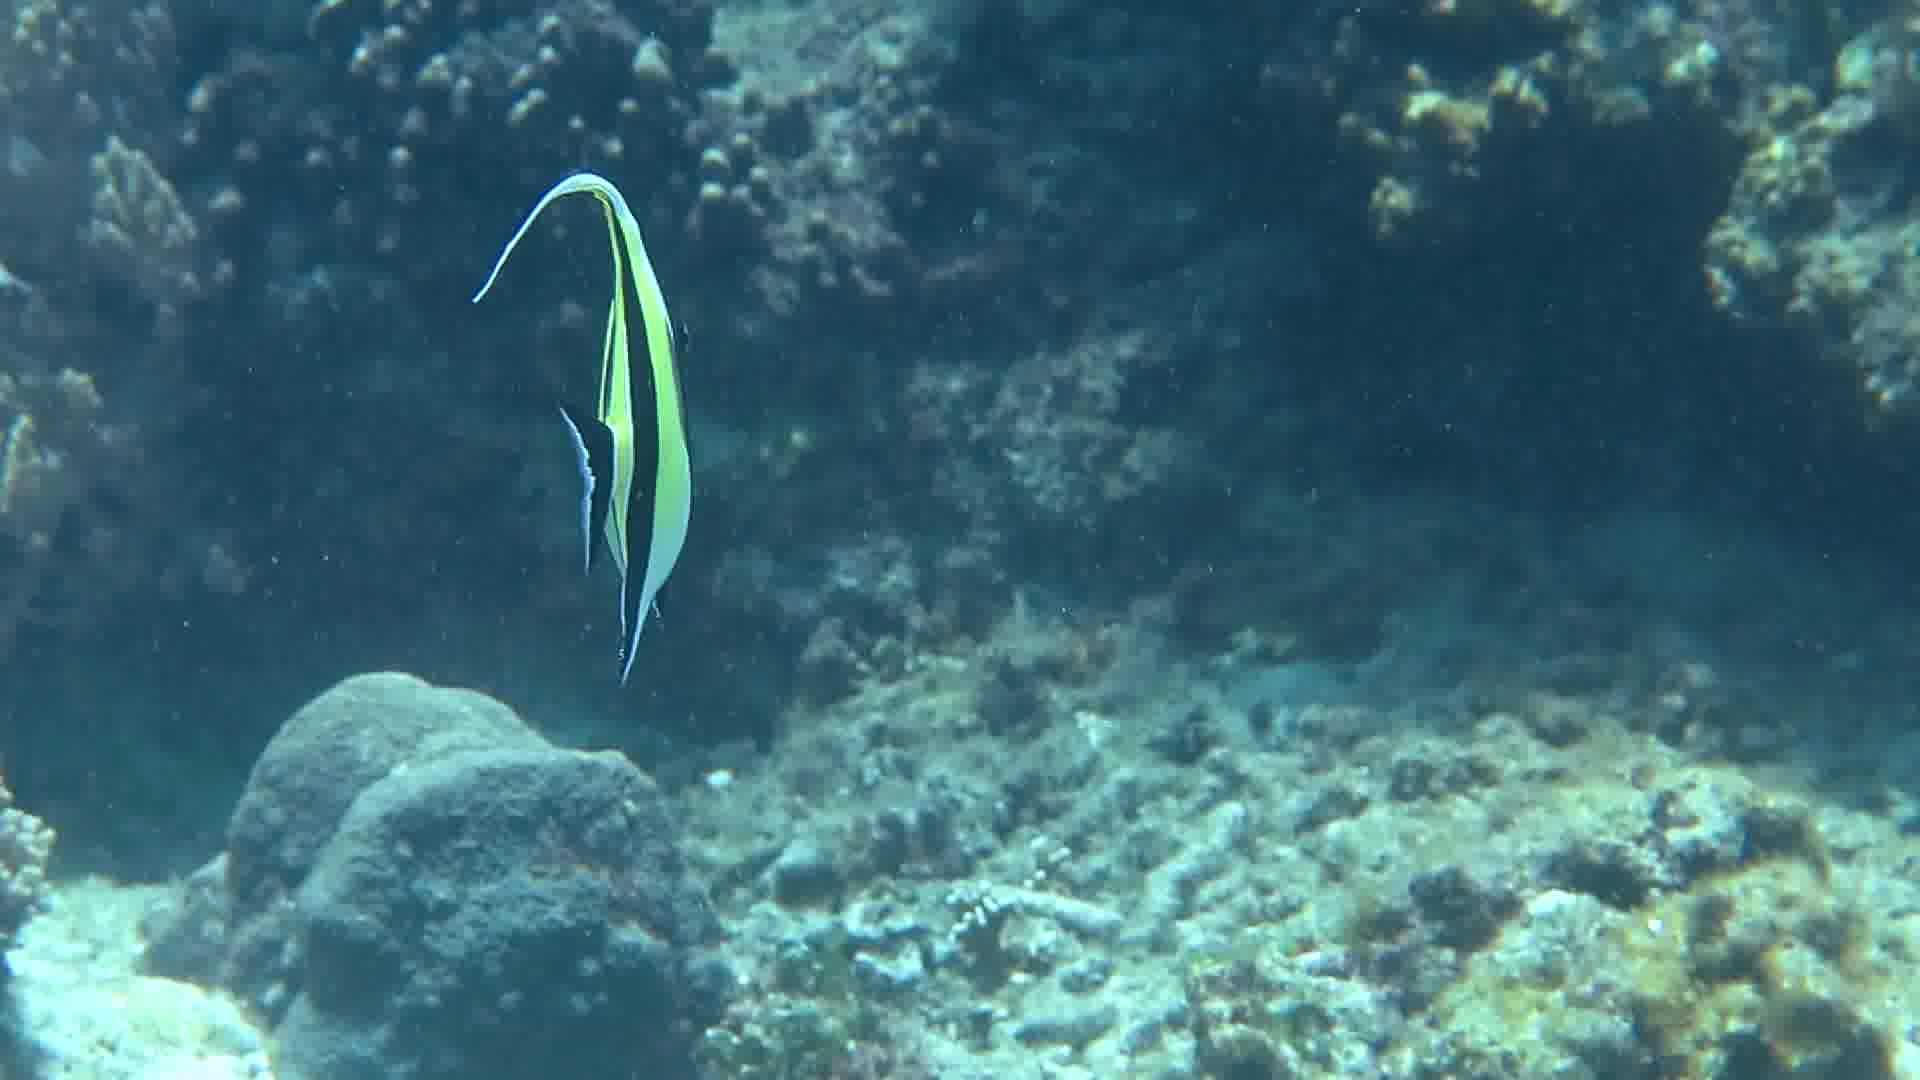Zanclus cornutus: (502, 142, 761, 695)
